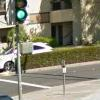Traffic light: (8, 1, 30, 27)
